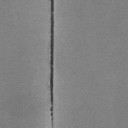slag inclusion: (50, 0, 55, 128)
